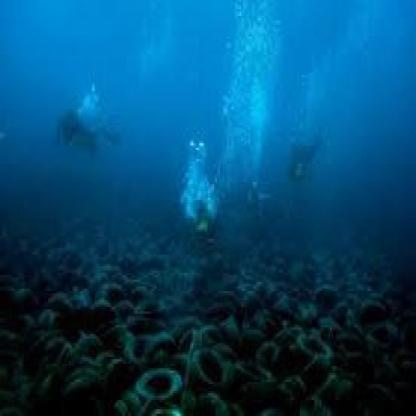tire: (184, 332, 241, 400), (125, 357, 182, 402), (297, 327, 350, 375)
